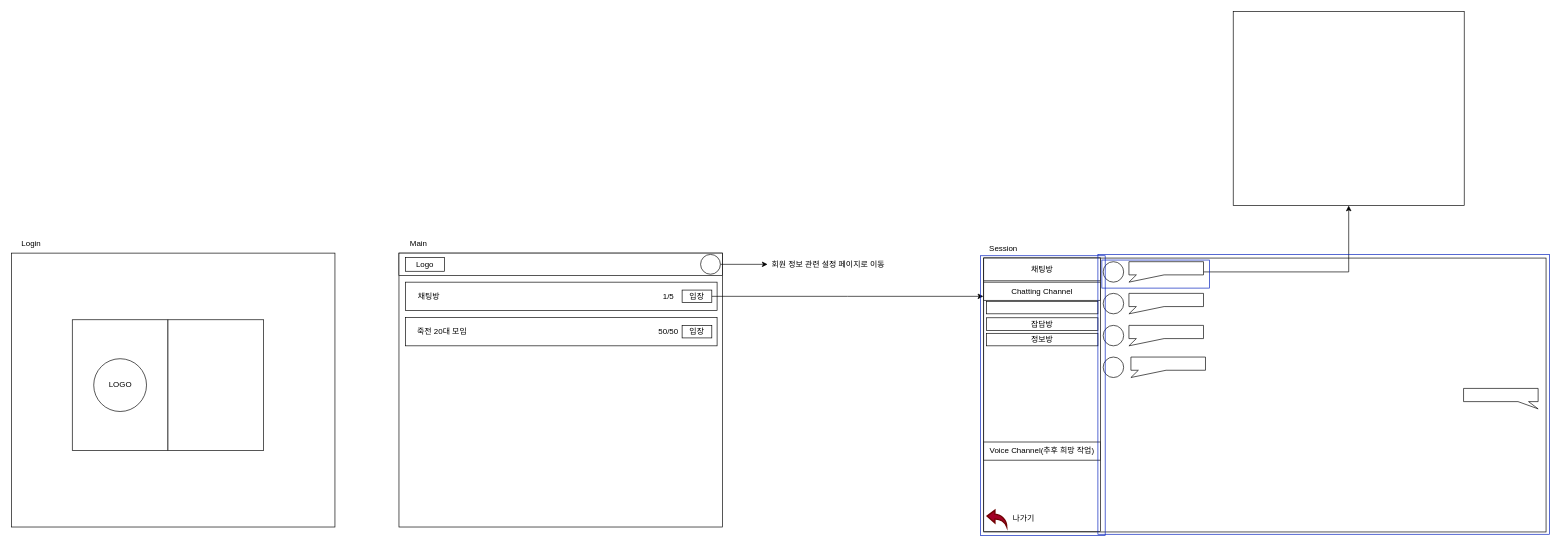
Some shapes in this 1561 by 547 pixel diagram are drawn without their labels. The shapes that lost their labels are listed below. From the top down, each one's centre as x and y in pixels, then its label:
(1348,108): JSON Data { user: user01 time: 2024.10.10 13:01 text: blablabla }
(1042,307): 일반 채팅
(215,384): ID: [ ] PW: [ ] 로그인 버튼 회원가입 버튼
